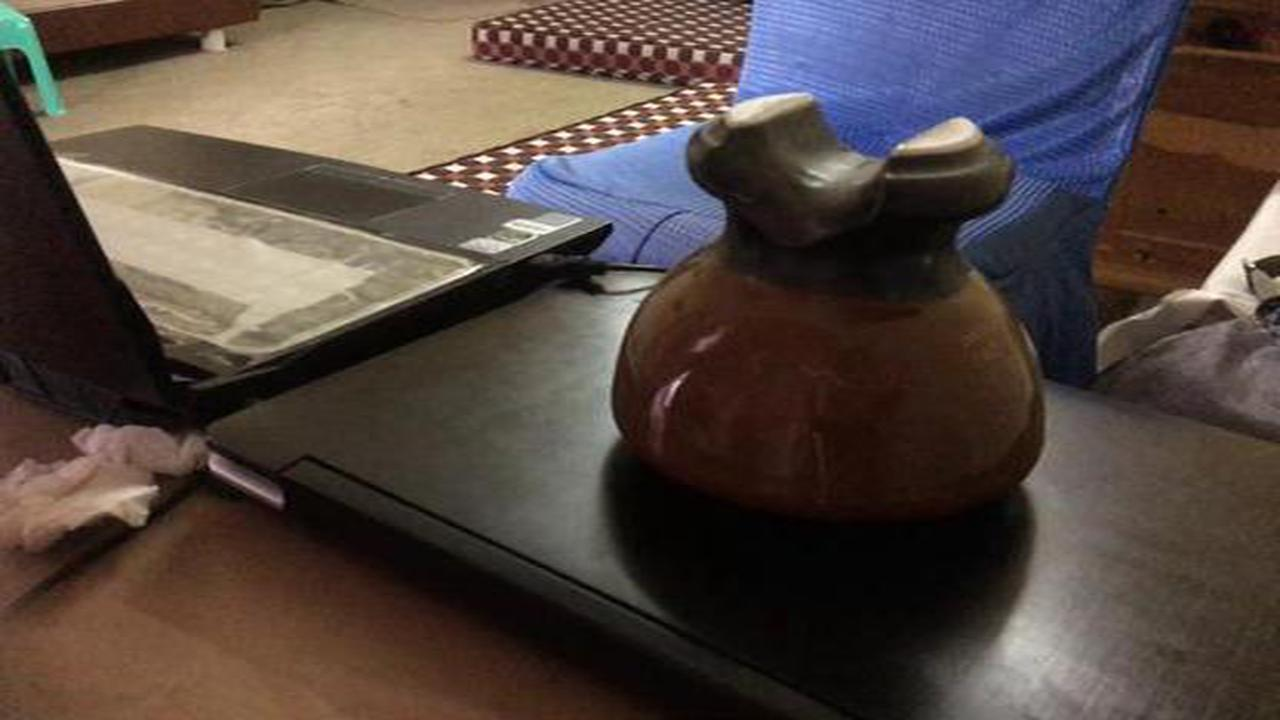insulator_pin: (597, 78, 1077, 537)
